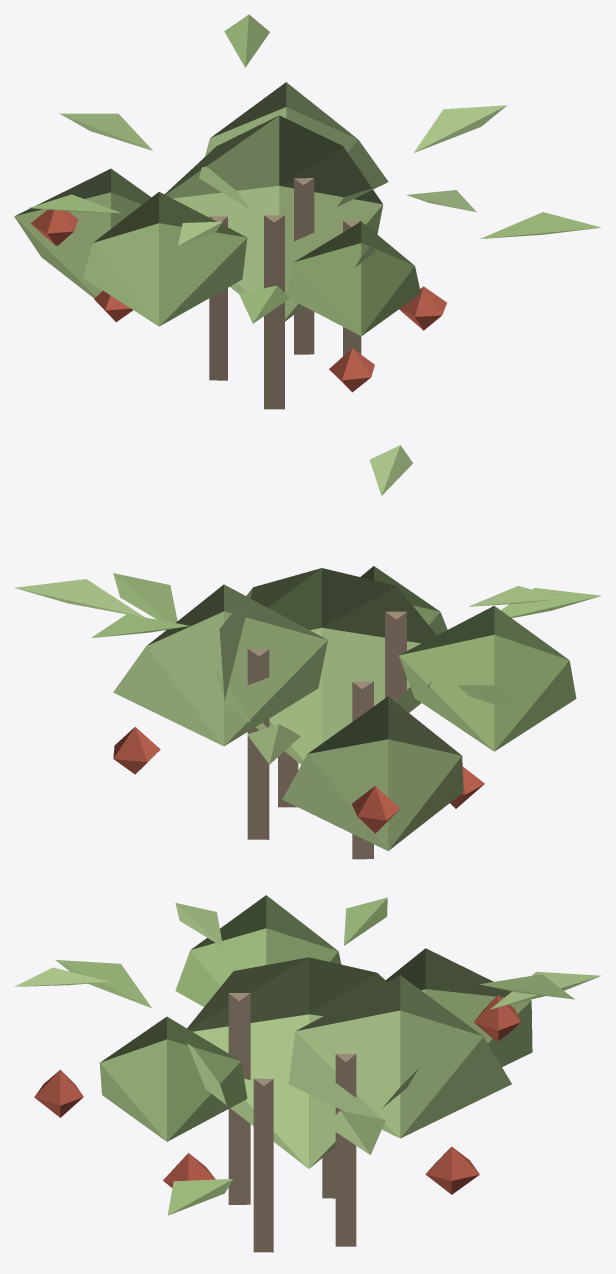
Rendered from guan.lianqiao@fruiting__bloom.glb.
3 views of the same model, one above another, from view 1: azimuth 30°, elevation 25°; view 2: azimuth 150°, elevation 25°; view 3: azimuth 270°, elevation 25° (orthographic). The views are drawn at different scales.
Parts seen in each view (by area): view 1: guan.lianqiao@fruiting__bloom; view 2: guan.lianqiao@fruiting__bloom; view 3: guan.lianqiao@fruiting__bloom.
Boxes of the visible parts, x1=… form: guan.lianqiao@fruiting__bloom: x1=14, y1=14, x2=600, y2=409; guan.lianqiao@fruiting__bloom: x1=14, y1=445, x2=601, y2=859; guan.lianqiao@fruiting__bloom: x1=14, y1=895, x2=601, y2=1252.
Size of the model in its own units: 3.08 by 1.6 by 3.03.
